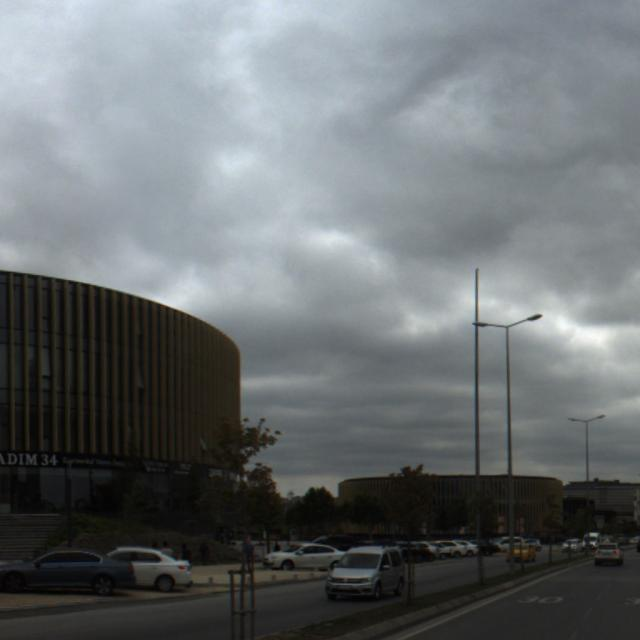SignStore: (1, 451, 115, 468)
